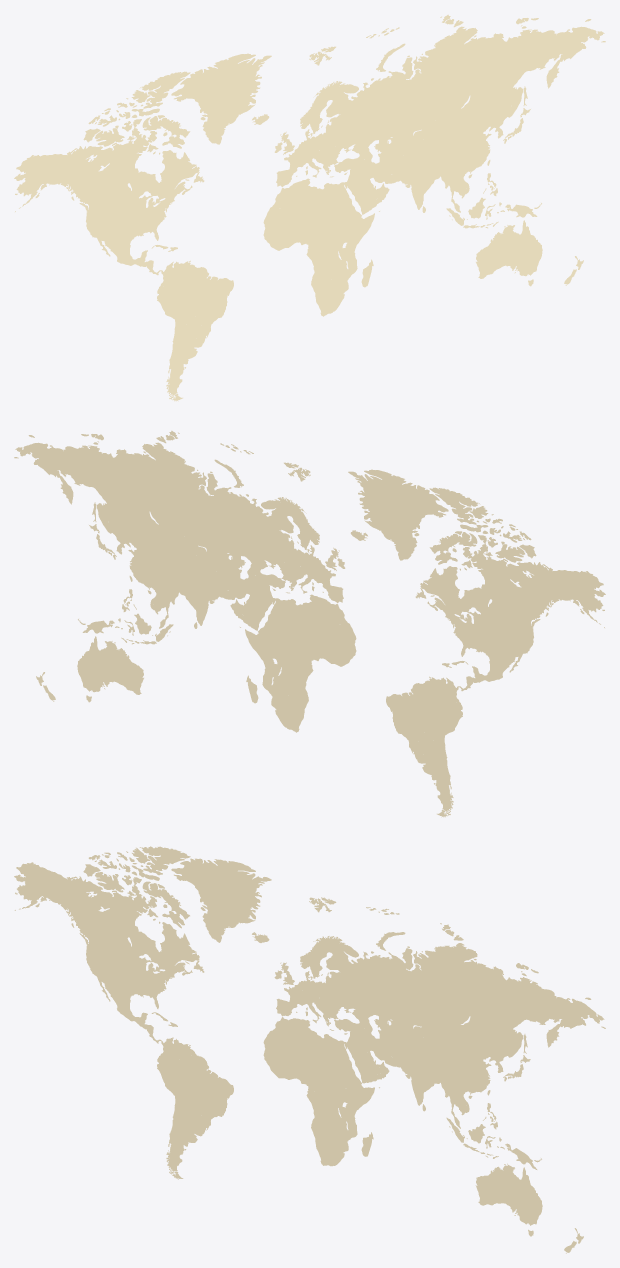
The model's file is world-map-vector-mobile.glb.
The picture shows the model from 3 angles, top to bottom: view 1: azimuth 30°, elevation 25°; view 2: azimuth 150°, elevation 25°; view 3: azimuth 330°, elevation 25°; orthographic projection.
Parts seen in each view (by area): view 1: LandTop; view 2: LandTop; view 3: LandTop.
Part boxes in pixels (<box>): LandTop: <box>14,14,605,401</box>; LandTop: <box>14,430,605,817</box>; LandTop: <box>14,846,605,1253</box>.
Bounding box in the file's own units: 19.03 × 10.2 × 0.
